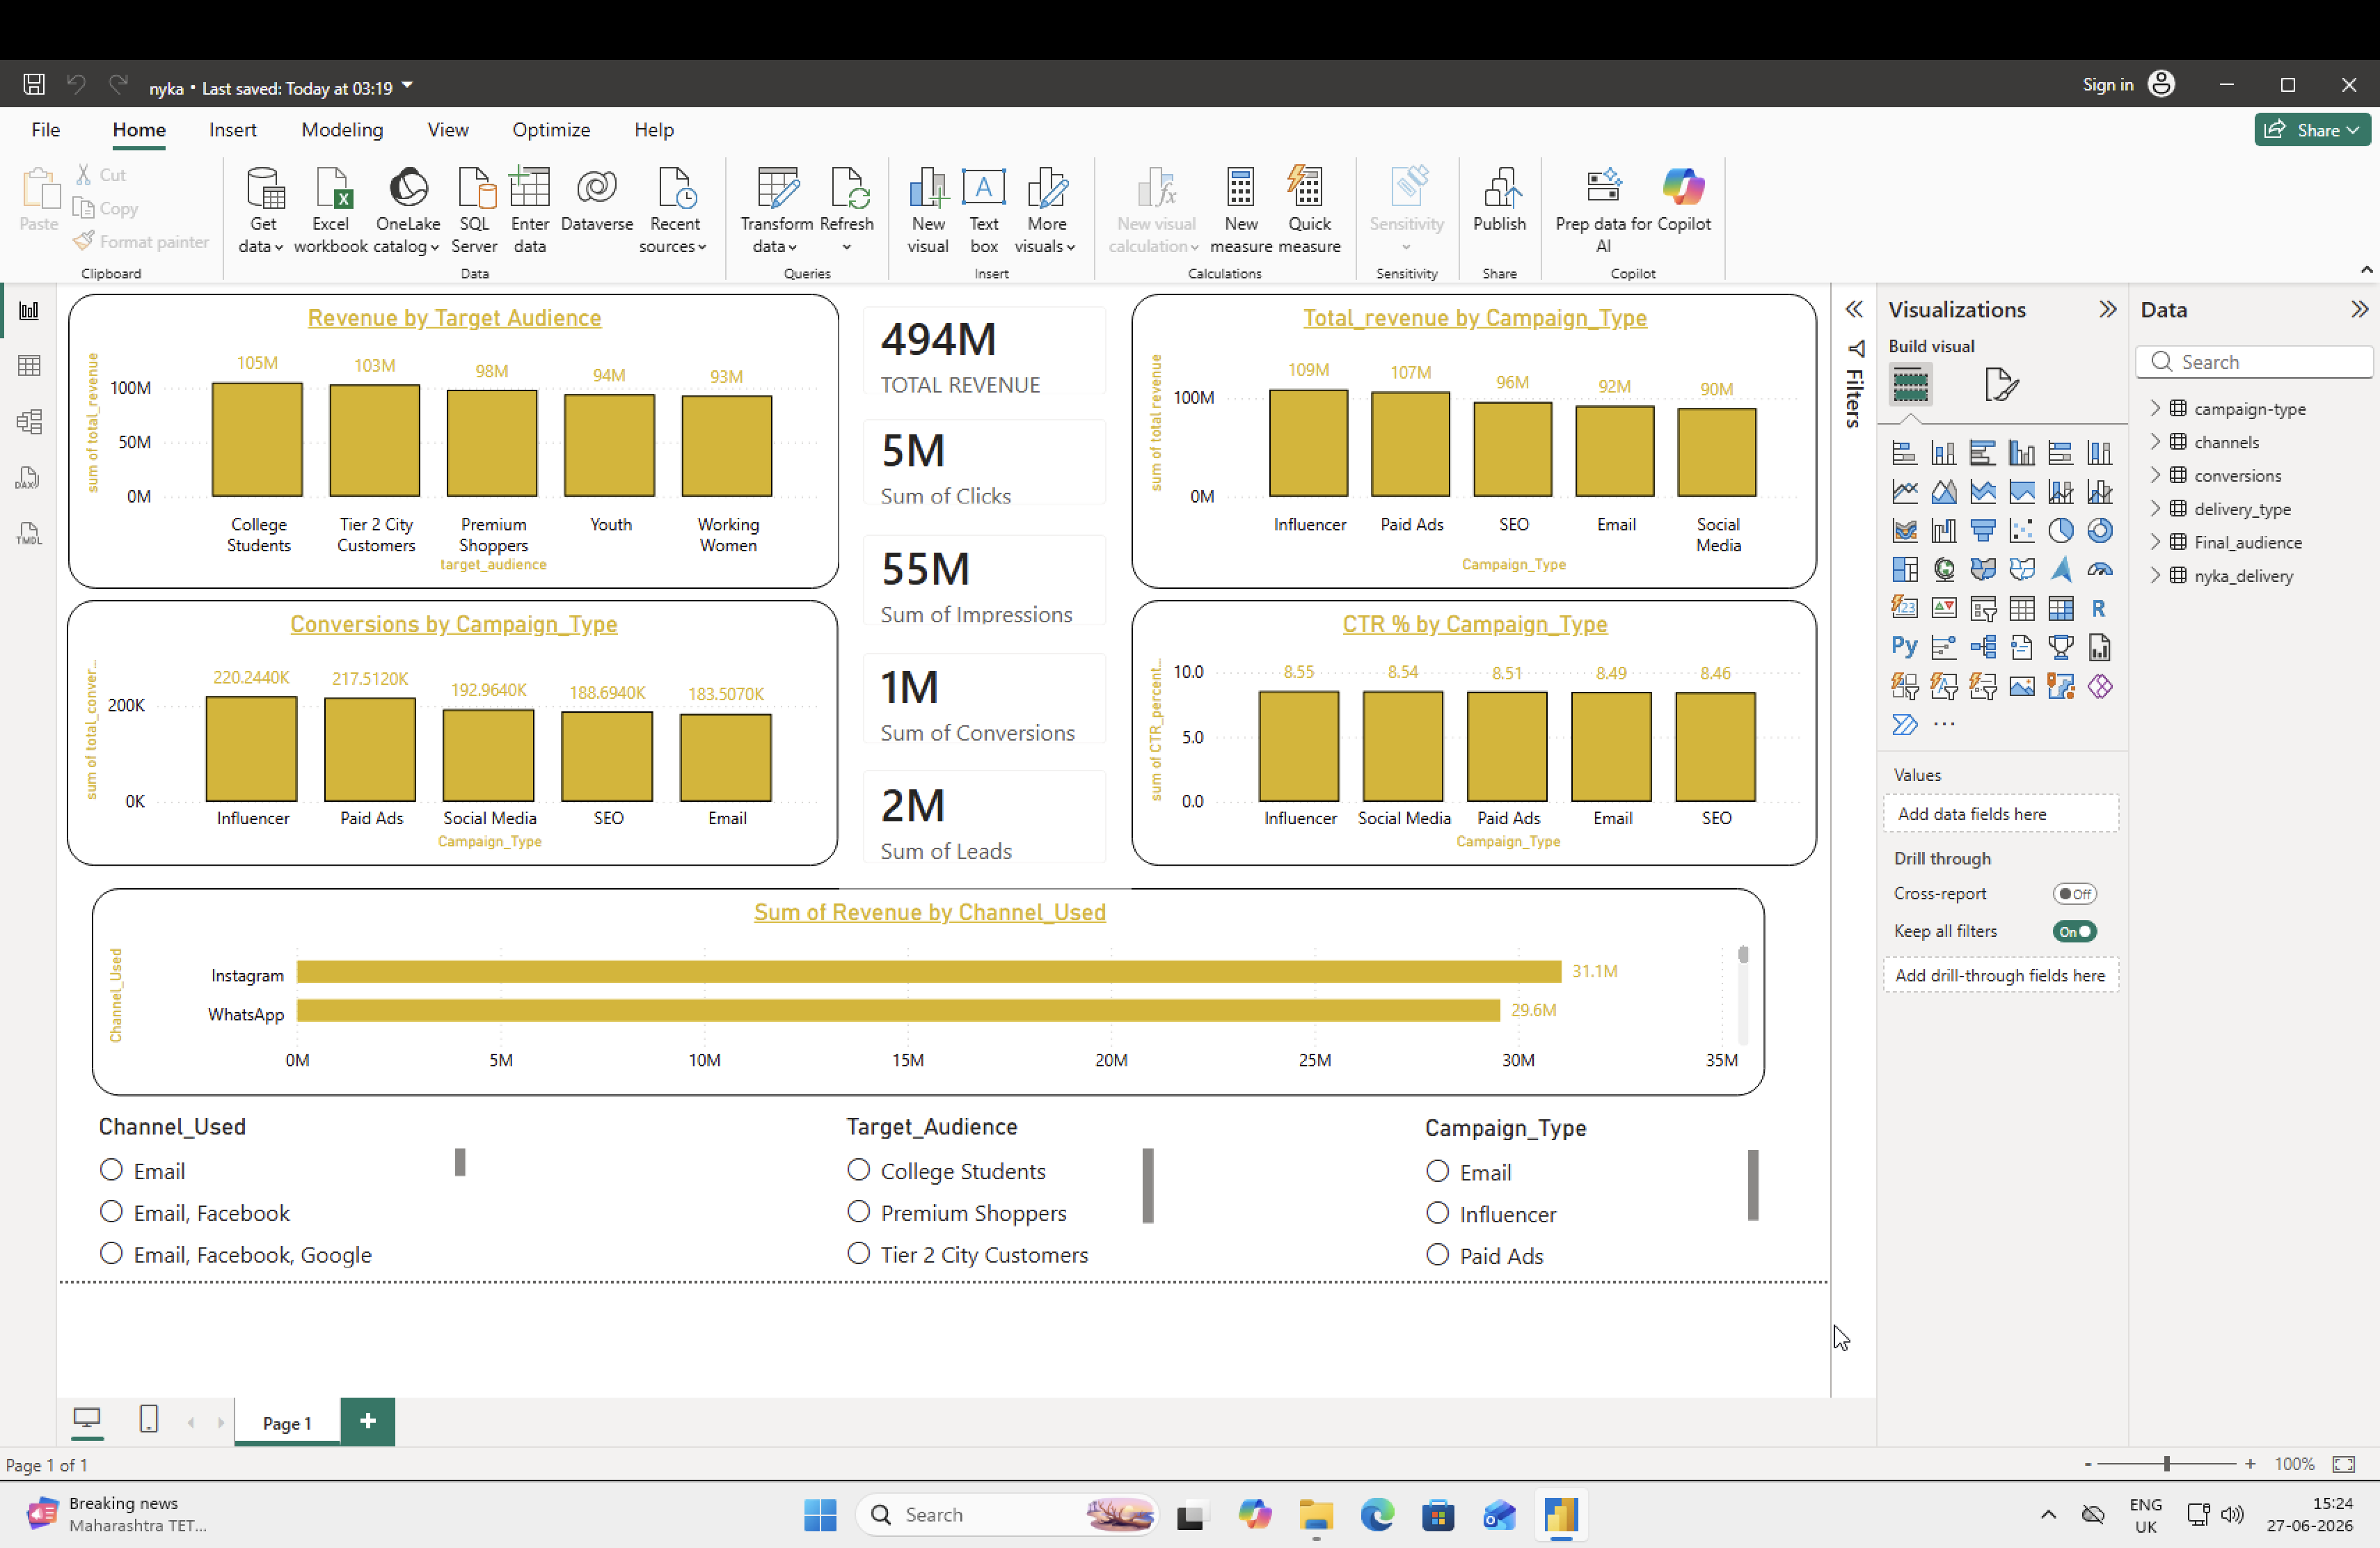

Layout of this report page (visuals, bound fields, positions):
{"tool":"powerbi","page":{"name":"Page 1","canvas":[1280,720],"ordinal":0},"visuals":[{"type":"clusteredColumnChart","title":"Revenue by Target Audience","fields":{"Y":["Sum(nyka_delivery.Revenue)"],"Category":["nyka_delivery.Target_Audience"]},"box":[8.2,8.2,556.6,213.4],"z":0},{"type":"clusteredColumnChart","title":"Total_revenue by Campaign_Type","fields":{"Category":["nyka_delivery.Campaign_Type"],"Y":["Sum(nyka_delivery.Revenue)"]},"box":[775.4,8.2,494.8,213.4],"z":2},{"type":"clusteredColumnChart","title":"CTR % by Campaign_Type","fields":{"Category":["campaign-type.Campaign_Type"],"Y":["Sum(campaign-type.Sum of CTR_percent)"]},"box":[775.4,228.8,494.8,191.6],"z":3},{"type":"clusteredColumnChart","title":"Conversions by Campaign_Type","fields":{"Category":["nyka_delivery.Campaign_Type"],"Y":["Sum(nyka_delivery.Conversions)"]},"box":[7.3,228.8,557.5,191.6],"z":10},{"type":"barChart","fields":{"Category":["nyka_delivery.Channel_Used"],"Y":["Sum(nyka_delivery.Revenue)"]},"box":[25.4,436.7,1208.5,149.8],"z":11},{"type":"listSlicer","fields":{"Values":["nyka_delivery.Campaign_Type"]},"box":[982.4,600.2,251.5,119.8],"z":12},{"type":"listSlicer","fields":{"Values":["nyka_delivery.Target_Audience"]},"box":[564.7,598.3,232.4,121.7],"z":13},{"type":"listSlicer","fields":{"Values":["nyka_delivery.Channel_Used"]},"box":[25.4,598.3,275.1,121.7],"z":14},{"type":"cardVisual","fields":{"Data":["Final_audience. TOTAL REVENUE"]},"box":[564.7,0,210.6,99],"z":16},{"type":"cardVisual","fields":{"Data":["Sum(nyka_delivery.Clicks)"]},"box":[564.7,81.7,210.6,96.2],"z":17},{"type":"cardVisual","fields":{"Data":["Sum(nyka_delivery.Impressions)"]},"box":[564.7,164.3,210.6,100.8],"z":18},{"type":"cardVisual","fields":{"Data":["Sum(nyka_delivery.Conversions)"]},"box":[564.7,249.7,210.6,100.8],"z":19},{"type":"cardVisual","fields":{"Data":["Sum(nyka_delivery.Leads)"]},"box":[564.7,334.1,210.6,102.6],"z":20}]}

Visuals, with their boxes on the page's 1280x720 design canvas (x1, y1, x2, y2). These are canvas units, not pixel positions in the 2380x1548 screenshot, which may show the page scaled, cropped or inside an application window:
"Revenue by Target Audience" clusteredColumnChart: select_region(8, 8, 565, 222)
"Total_revenue by Campaign_Type" clusteredColumnChart: select_region(775, 8, 1270, 222)
"CTR % by Campaign_Type" clusteredColumnChart: select_region(775, 229, 1270, 420)
"Conversions by Campaign_Type" clusteredColumnChart: select_region(7, 229, 565, 420)
barChart - nyka_delivery.Channel_Used x Sum(nyka_delivery.Revenue): select_region(25, 437, 1234, 586)
listSlicer - nyka_delivery.Campaign_Type: select_region(982, 600, 1234, 720)
listSlicer - nyka_delivery.Target_Audience: select_region(565, 598, 797, 720)
listSlicer - nyka_delivery.Channel_Used: select_region(25, 598, 300, 720)
cardVisual - Final_audience. TOTAL REVENUE: select_region(565, 0, 775, 99)
cardVisual - Sum(nyka_delivery.Clicks): select_region(565, 82, 775, 178)
cardVisual - Sum(nyka_delivery.Impressions): select_region(565, 164, 775, 265)
cardVisual - Sum(nyka_delivery.Conversions): select_region(565, 250, 775, 350)
cardVisual - Sum(nyka_delivery.Leads): select_region(565, 334, 775, 437)
